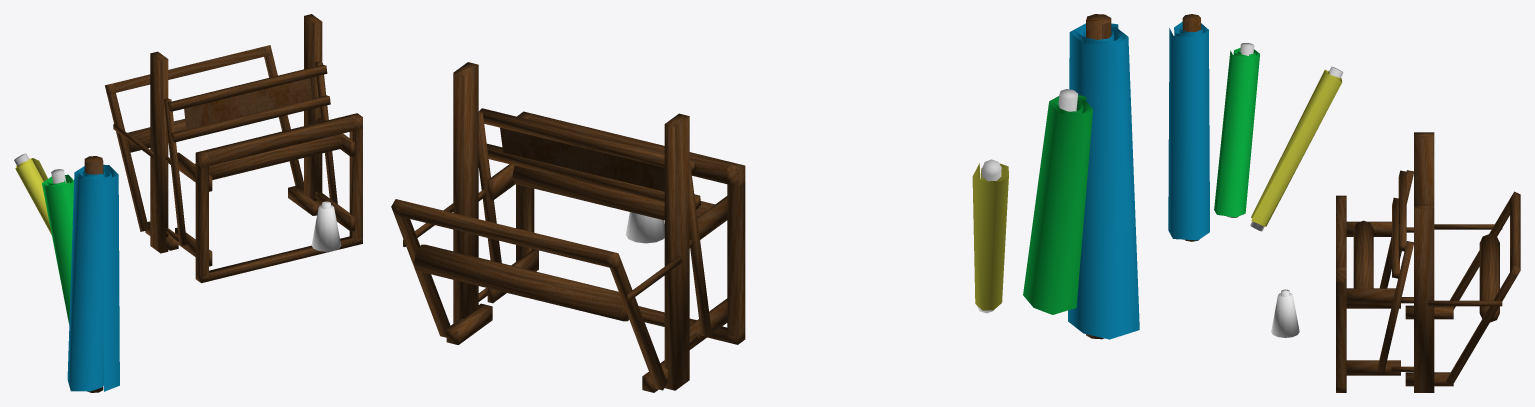
Rendered from shasa's hut.fbx.
The picture shows the model from 3 angles, left to right: view 1: azimuth 30°, elevation 25°; view 2: azimuth 150°, elevation 25°; view 3: azimuth 270°, elevation 25°; orthographic projection. The views are drawn at different scales.
Visible parts, largest first — view 1: Cube, Cylinder_000, Cylinder_002, Cylinder_001, Cylinder; view 2: Cube, Cylinder_000, Cylinder_002, Cylinder_001, Cylinder; view 3: Cube, Cylinder_000, Cylinder_002, Cylinder_001, Cylinder.
Boxes of the visible parts, x1,y1,x2,y2 form: Cube: [105, 14, 362, 283]; Cylinder_000: [67, 156, 119, 392]; Cylinder_002: [42, 169, 73, 324]; Cylinder_001: [14, 153, 51, 234]; Cylinder: [311, 201, 341, 251]; Cube: [391, 62, 745, 392]; Cylinder_000: [1068, 14, 1139, 339]; Cylinder_002: [1023, 89, 1092, 314]; Cylinder_001: [972, 159, 1008, 313]; Cylinder: [625, 212, 664, 243]; Cube: [1336, 132, 1520, 392]; Cylinder_000: [1168, 14, 1209, 241]; Cylinder_002: [1214, 43, 1259, 217]; Cylinder_001: [1250, 66, 1343, 231]; Cylinder: [1271, 289, 1299, 337].
Size of the model in its own units: 7.09 by 4.17 by 6.06.
